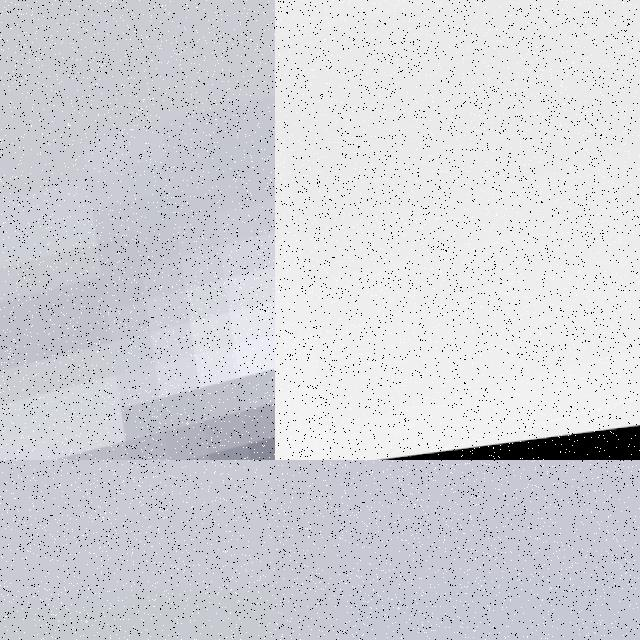0: (0, 0, 275, 460)
drone: (275, 0, 640, 460)
